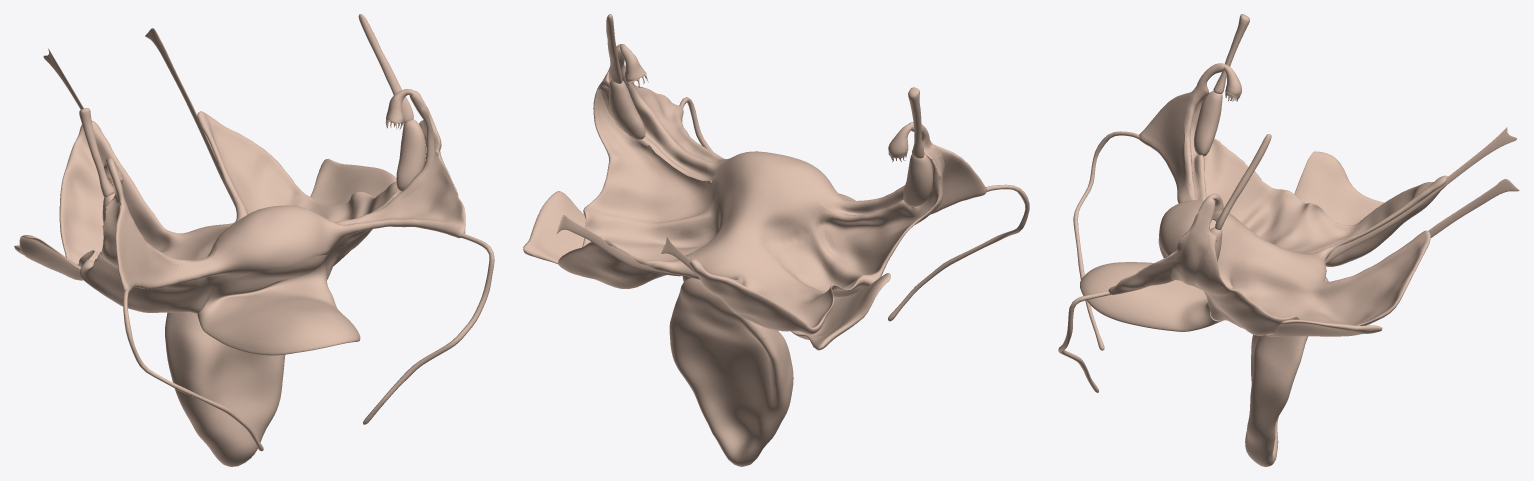
Rendered from female-extras.glb.
3 renders of one model, left to right at view 1: azimuth 30°, elevation 25°; view 2: azimuth 150°, elevation 25°; view 3: azimuth 270°, elevation 25°, orthographic. The views are drawn at different scales.
Parts seen in each view (by area): view 1: HRAf6fe2cc7b2c0, HRA69bf607788d8, HRAd5eaaeec4875, HRAac9ca638eba9, HRA5c7e5e333f48, HRAf2a92136ed72, HRA1d8557484808, HRAca8462cbef2a, HRA00217df36c4b, HRAecf2a00f776e, HRA0b1251da99c7, HRAde07d32f4423 (+1 smaller); view 2: HRAf6fe2cc7b2c0, HRA69bf607788d8, HRAcc8fde0c5715, HRAac9ca638eba9, HRA5c7e5e333f48, HRA00217df36c4b, HRAca8462cbef2a, HRA1d8557484808, HRAecf2a00f776e, HRA3bf3a5dba534, HRA0b1251da99c7, HRA8c66180e2075 (+1 smaller); view 3: HRAf6fe2cc7b2c0, HRAd5eaaeec4875, HRA69bf607788d8, HRA00217df36c4b, HRA5c7e5e333f48, HRAca8462cbef2a, HRAac9ca638eba9, HRA63b12942b268, HRA3bf3a5dba534, HRAecf2a00f776e, HRA0b1251da99c7, HRAde07d32f4423 (+2 smaller).
Boxes of the visible parts, bbox=[...] form: HRAf6fe2cc7b2c0: bbox=[59, 107, 465, 313]; HRA69bf607788d8: bbox=[165, 312, 285, 466]; HRAd5eaaeec4875: bbox=[197, 255, 360, 355]; HRAac9ca638eba9: bbox=[310, 159, 396, 204]; HRA5c7e5e333f48: bbox=[330, 90, 434, 252]; HRAf2a92136ed72: bbox=[363, 234, 494, 424]; HRA1d8557484808: bbox=[396, 119, 425, 191]; HRAca8462cbef2a: bbox=[102, 158, 216, 276]; HRA00217df36c4b: bbox=[14, 235, 82, 280]; HRAecf2a00f776e: bbox=[123, 289, 263, 451]; HRA0b1251da99c7: bbox=[145, 28, 235, 207]; HRAde07d32f4423: bbox=[358, 14, 413, 123]; HRAf6fe2cc7b2c0: bbox=[558, 79, 987, 334]; HRA69bf607788d8: bbox=[669, 316, 793, 466]; HRAcc8fde0c5715: bbox=[672, 278, 775, 337]; HRAac9ca638eba9: bbox=[523, 191, 585, 264]; HRA5c7e5e333f48: bbox=[607, 44, 720, 181]; HRA00217df36c4b: bbox=[791, 273, 890, 350]; HRAca8462cbef2a: bbox=[819, 122, 944, 215]; HRA1d8557484808: bbox=[609, 80, 645, 139]; HRAecf2a00f776e: bbox=[888, 184, 1029, 321]; HRA3bf3a5dba534: bbox=[903, 153, 932, 206]; HRA0b1251da99c7: bbox=[556, 215, 682, 276]; HRA8c66180e2075: bbox=[908, 87, 924, 158]; HRAf6fe2cc7b2c0: bbox=[1108, 92, 1447, 336]; HRAd5eaaeec4875: bbox=[1080, 239, 1223, 331]; HRA69bf607788d8: bbox=[1245, 335, 1304, 466]; HRA00217df36c4b: bbox=[1294, 151, 1384, 225]; HRA5c7e5e333f48: bbox=[1170, 198, 1215, 288]; HRAca8462cbef2a: bbox=[1184, 63, 1224, 200]; HRAac9ca638eba9: bbox=[1265, 319, 1382, 336]; HRA63b12942b268: bbox=[1325, 127, 1516, 263]; HRA3bf3a5dba534: bbox=[1194, 91, 1222, 156]; HRAecf2a00f776e: bbox=[1073, 131, 1139, 350]; HRA0b1251da99c7: bbox=[1428, 179, 1519, 237]; HRAde07d32f4423: bbox=[1215, 134, 1271, 229].
Bounding box in the file's own units: 0.1471 × 0.159 × 0.1706.
